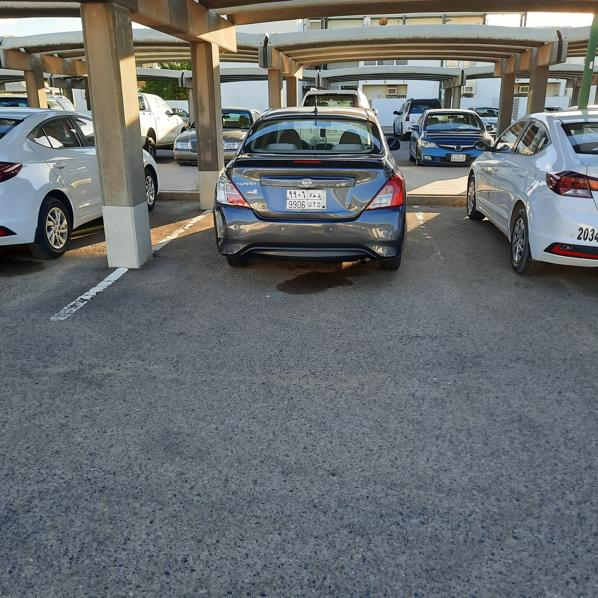numberplate: (287, 190, 327, 209)
